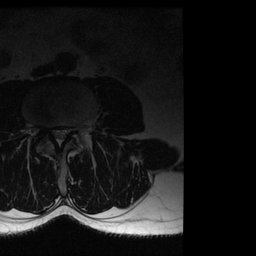CCS_normal: (56, 122, 62, 153)
LFS_severe_stenosis: (69, 117, 77, 140)
LLS_stenosis: (62, 120, 70, 146)
RFS_severe_stenosis: (41, 118, 49, 141)
RLS_stenosis: (49, 121, 56, 143)
